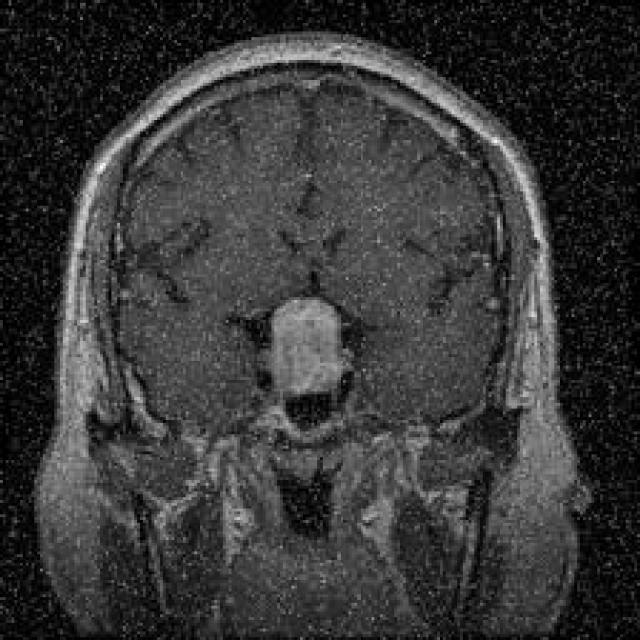pituitary_tumor: (243, 284, 368, 406)
